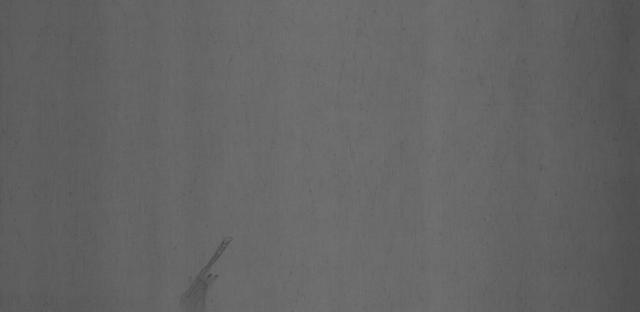water_spot: (172, 228, 248, 312)
